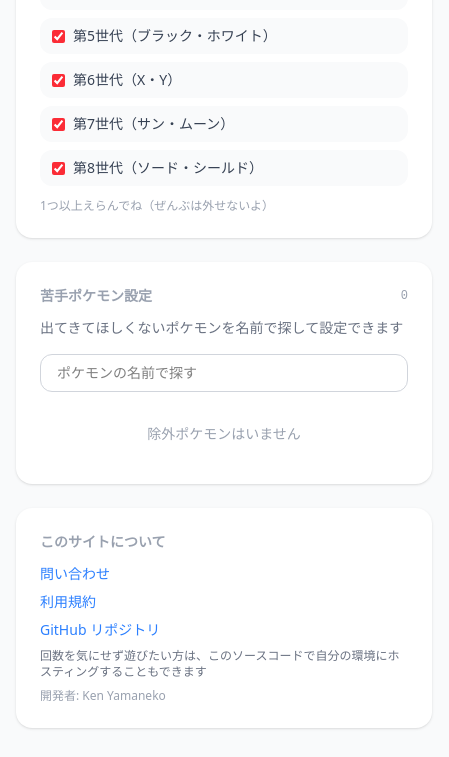
Test: [設定] 苦手ポケモン設定 › 異常系 › 設定の保存に失敗する状態で、「ゴル」と入力して検索結果の「ゴルバット」を選んだとき › 除外ポケモンの一覧が空のまま「除外ポケモンはいません」と表示される
The width and height of the screenshot is (449, 757).
(page scrolled)
Type "ゴル" into the field with placeholder "ポケモンの名前で探す". click: (224, 373)
box: [40, 354, 408, 392]
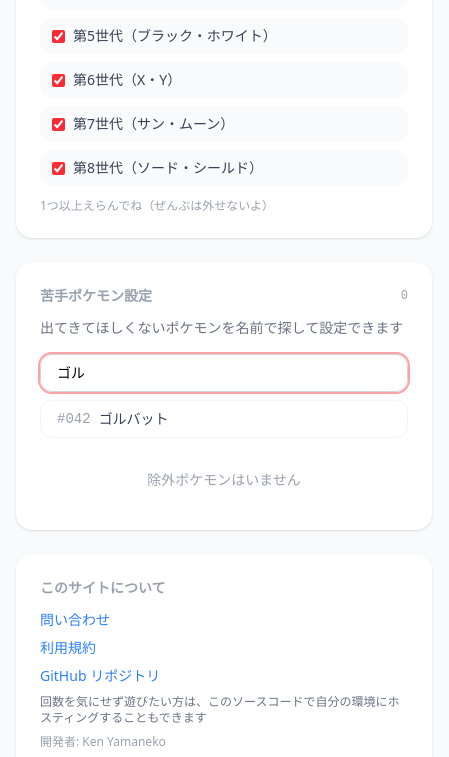
Click the button "#042 ゴルバット". click: click(134, 418)
box: [41, 401, 407, 437]
(page scrolled)
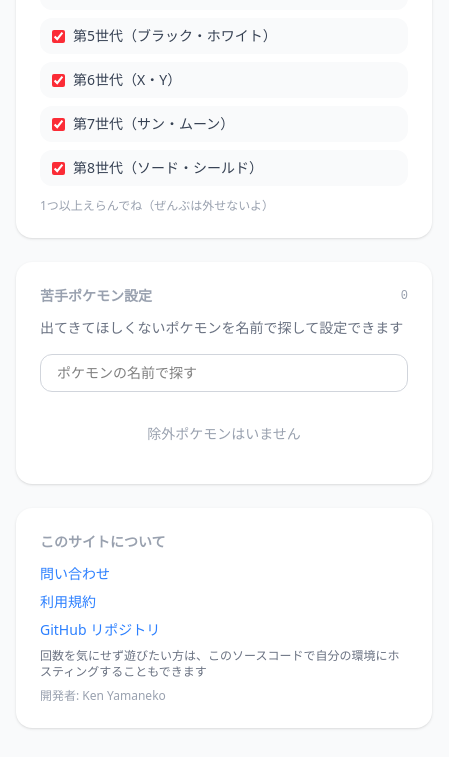
Check: the text "除外ポケモンはいません" is shown, box [147, 424, 301, 443]
Check: the button "#042" is gone
